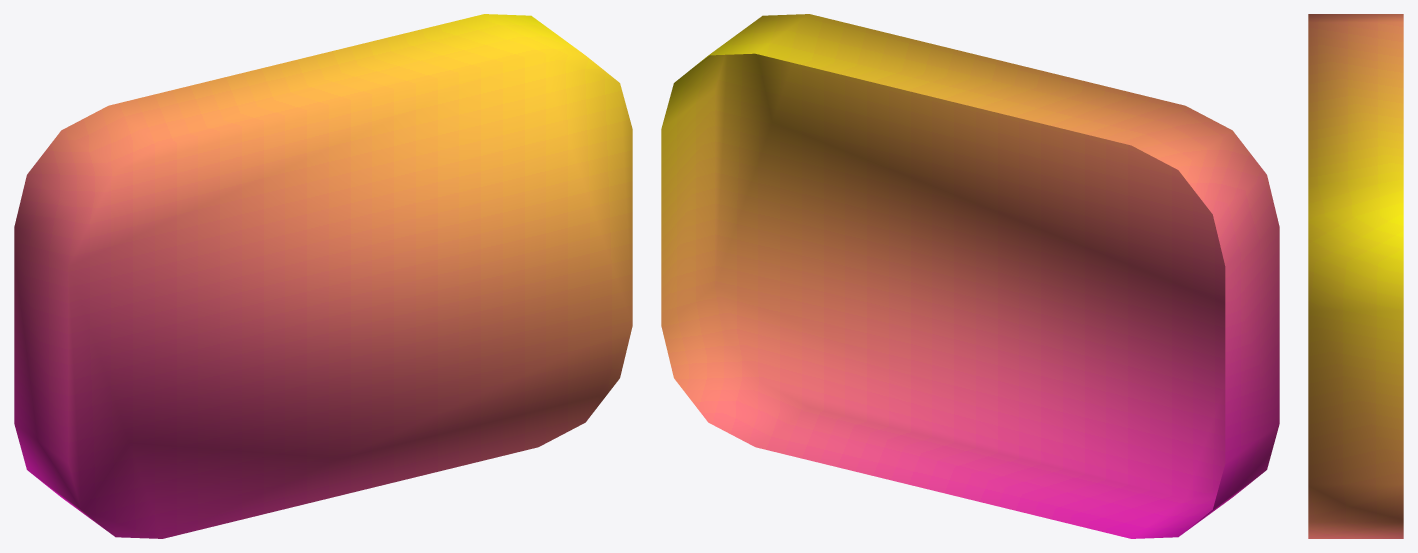
Rendered from ButtonS.glb.
3 views of the same model, side by side, from view 1: azimuth 30°, elevation 25°; view 2: azimuth 150°, elevation 25°; view 3: azimuth 270°, elevation 25° (orthographic). The views are drawn at different scales.
Parts seen in each view (by area): view 1: ButtonS; view 2: ButtonS; view 3: ButtonS.
Boxes of the visible parts, <box> form: ButtonS: <box>14,14,632,538</box>; ButtonS: <box>661,14,1279,538</box>; ButtonS: <box>1308,14,1403,538</box>.
Bounding box in the file's own units: 0.3 × 0.2 × 0.05.
Materials: 1 (1 with a texture image).
